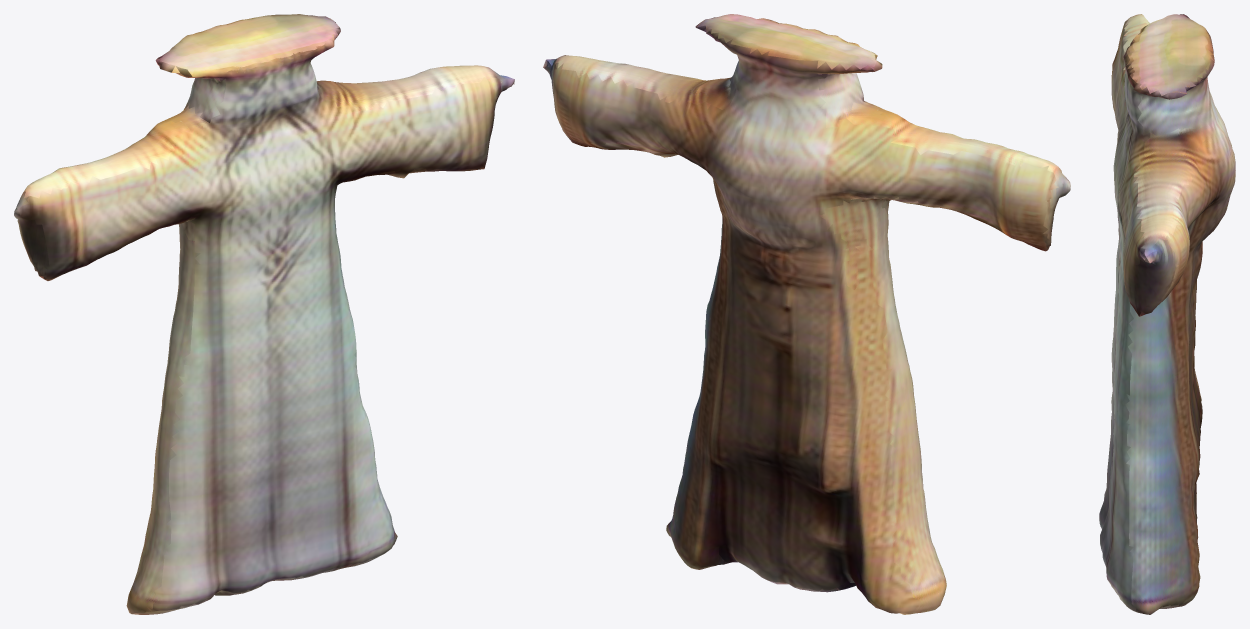
File: custom_model.glb
The picture shows the model from 3 angles, left to right: view 1: azimuth 30°, elevation 25°; view 2: azimuth 150°, elevation 25°; view 3: azimuth 270°, elevation 25°; orthographic projection. The views are drawn at different scales.
Visible parts, largest first — view 1: world; view 2: world; view 3: world.
Boxes of the visible parts, box(x1,y1,x2,y2) form: world: box(14, 14, 514, 614); world: box(543, 14, 1070, 614); world: box(1099, 14, 1235, 614).
Bounding box in the file's own units: 0.9903 × 1.01 × 0.2407.
1 material, 1 textured.
